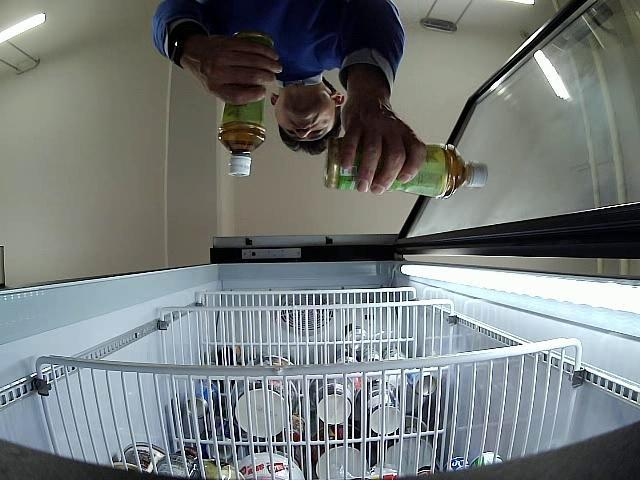19_17cha: (325, 138, 487, 202), (218, 32, 276, 178)
